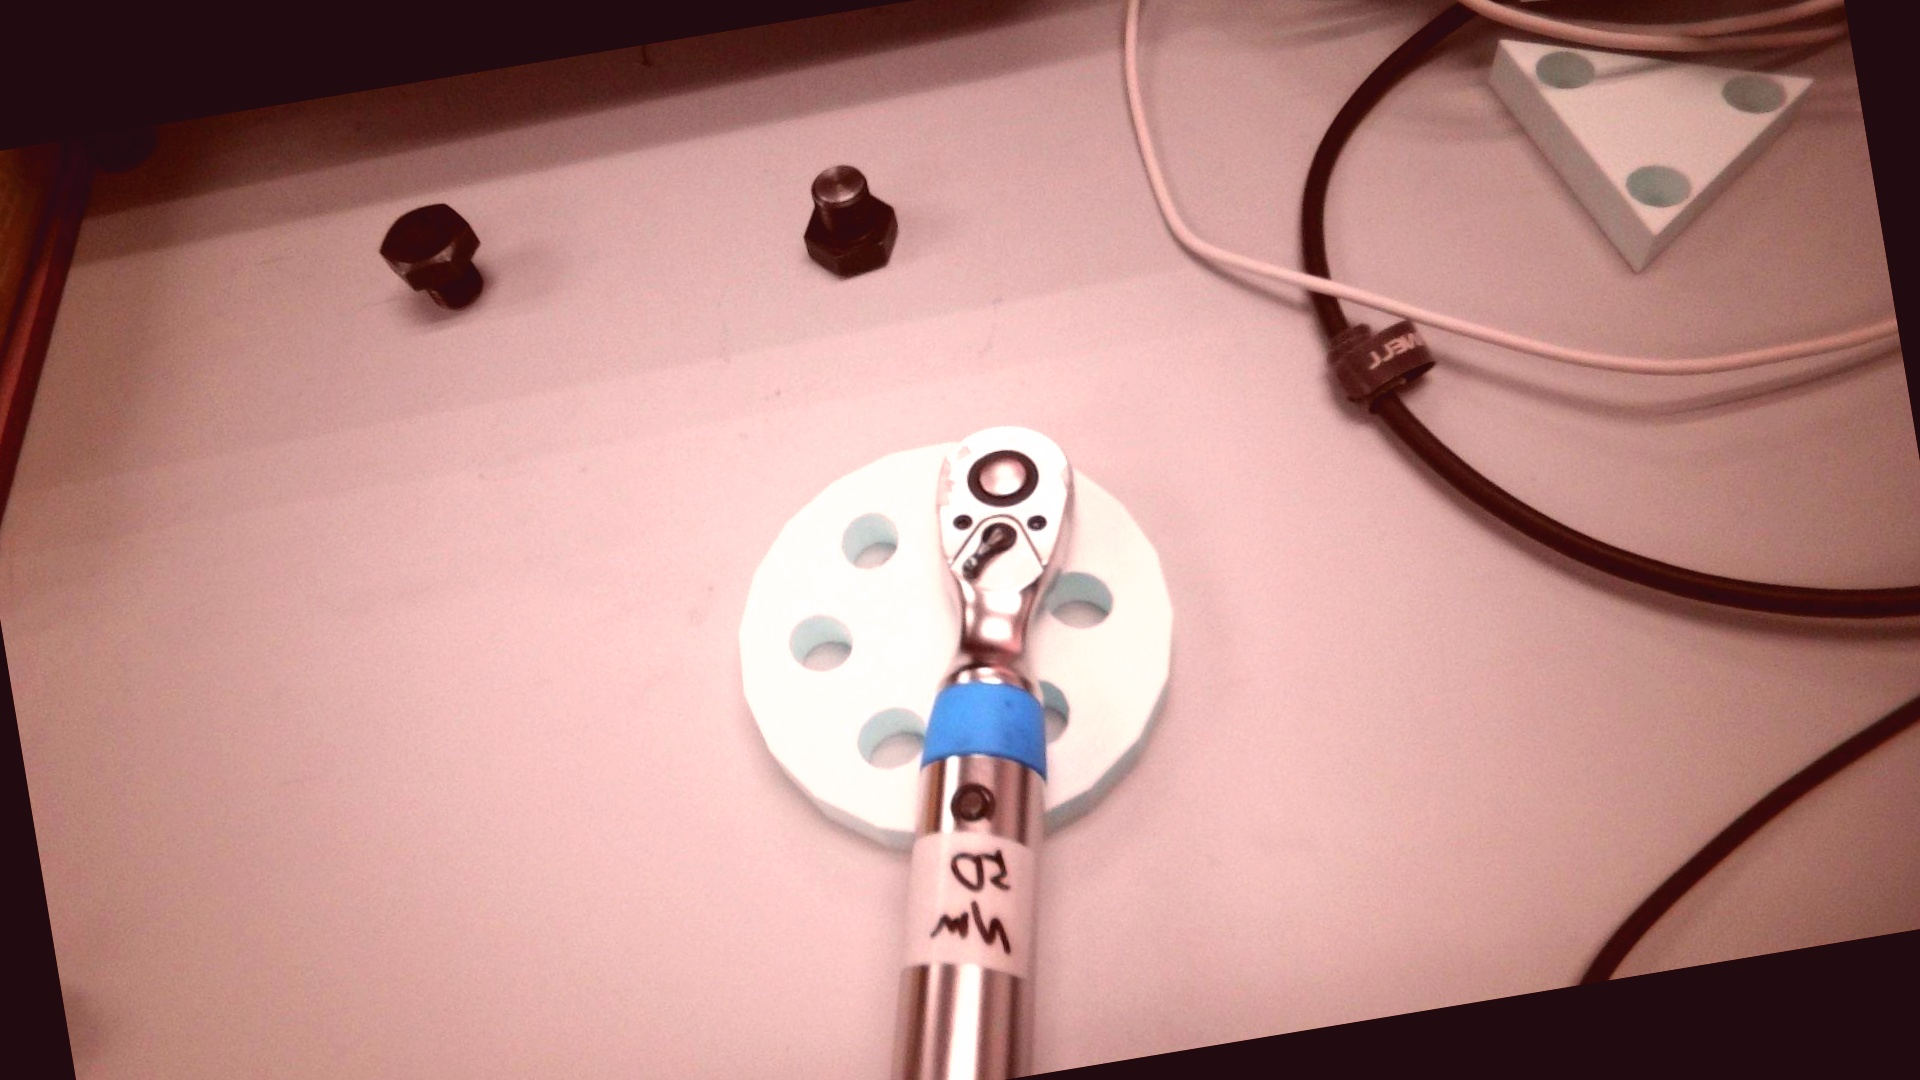hole: (851, 703, 931, 775), (1040, 564, 1116, 636), (833, 508, 905, 578), (783, 611, 857, 675), (1029, 674, 1075, 744)
obj: (708, 409, 1204, 882)
wrench: (963, 444, 1044, 516)
